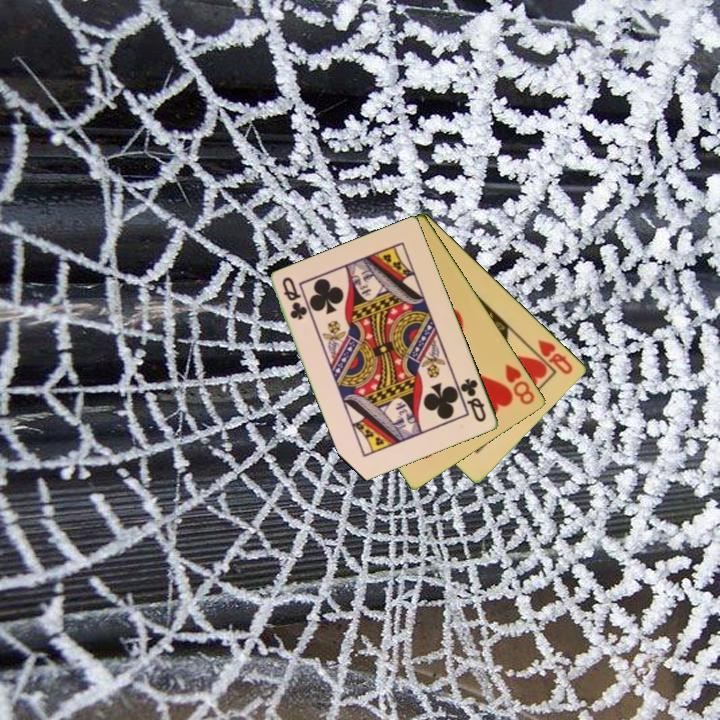8h: (502, 360, 538, 408)
Qc: (457, 375, 489, 425), (279, 273, 310, 323)
Qh: (534, 336, 576, 377)
